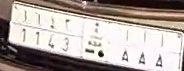1: (32, 11, 45, 47), (19, 6, 29, 46)
3: (61, 15, 77, 55)
4: (48, 13, 61, 52)
A: (137, 28, 151, 67), (120, 26, 132, 65), (156, 30, 167, 71)
